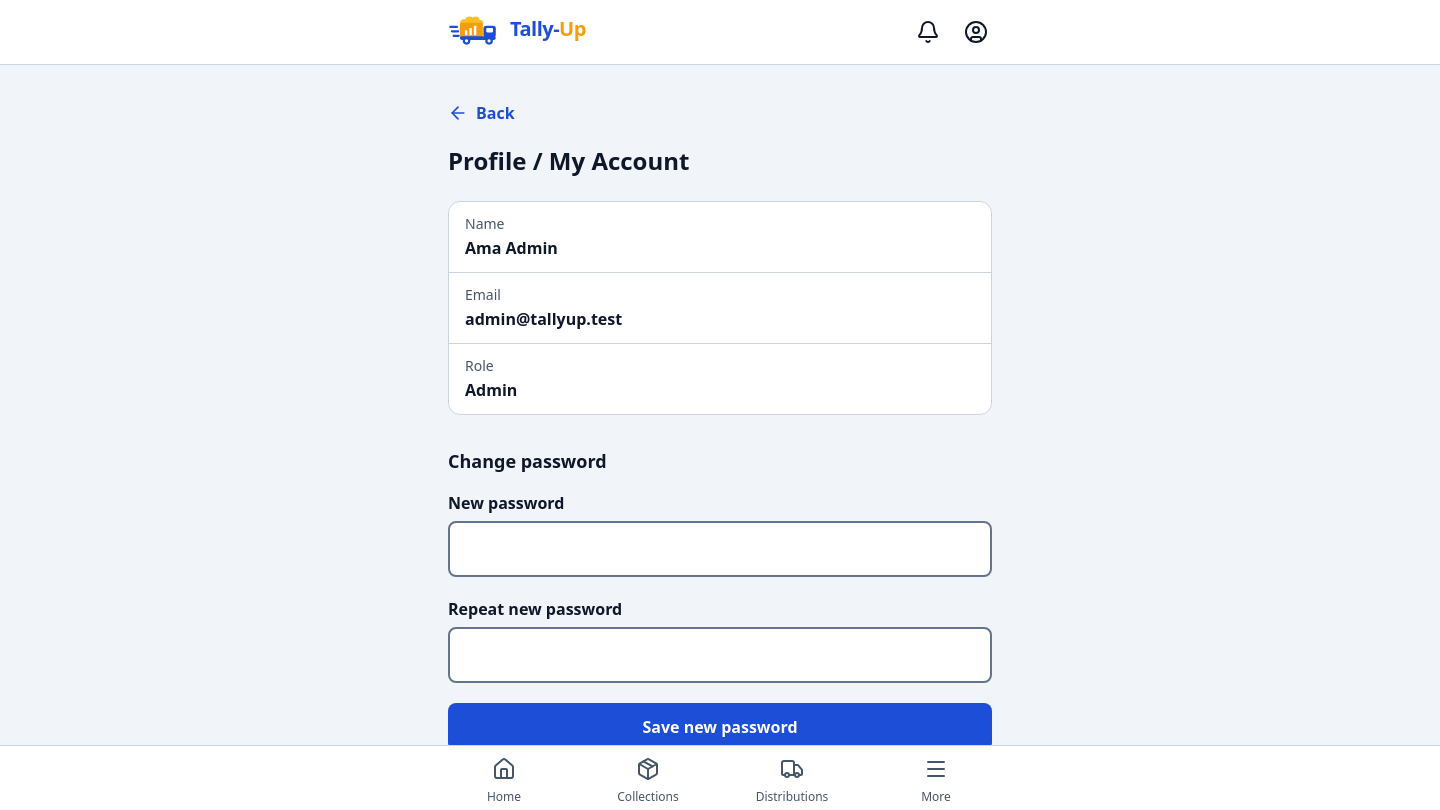
Profile / My Account › changes the password and confirms it
Type "fresh-pass-9" into the password field labelled "New password".
click(720, 549); type("fresh-pass-9")  # box [448, 521, 992, 577]
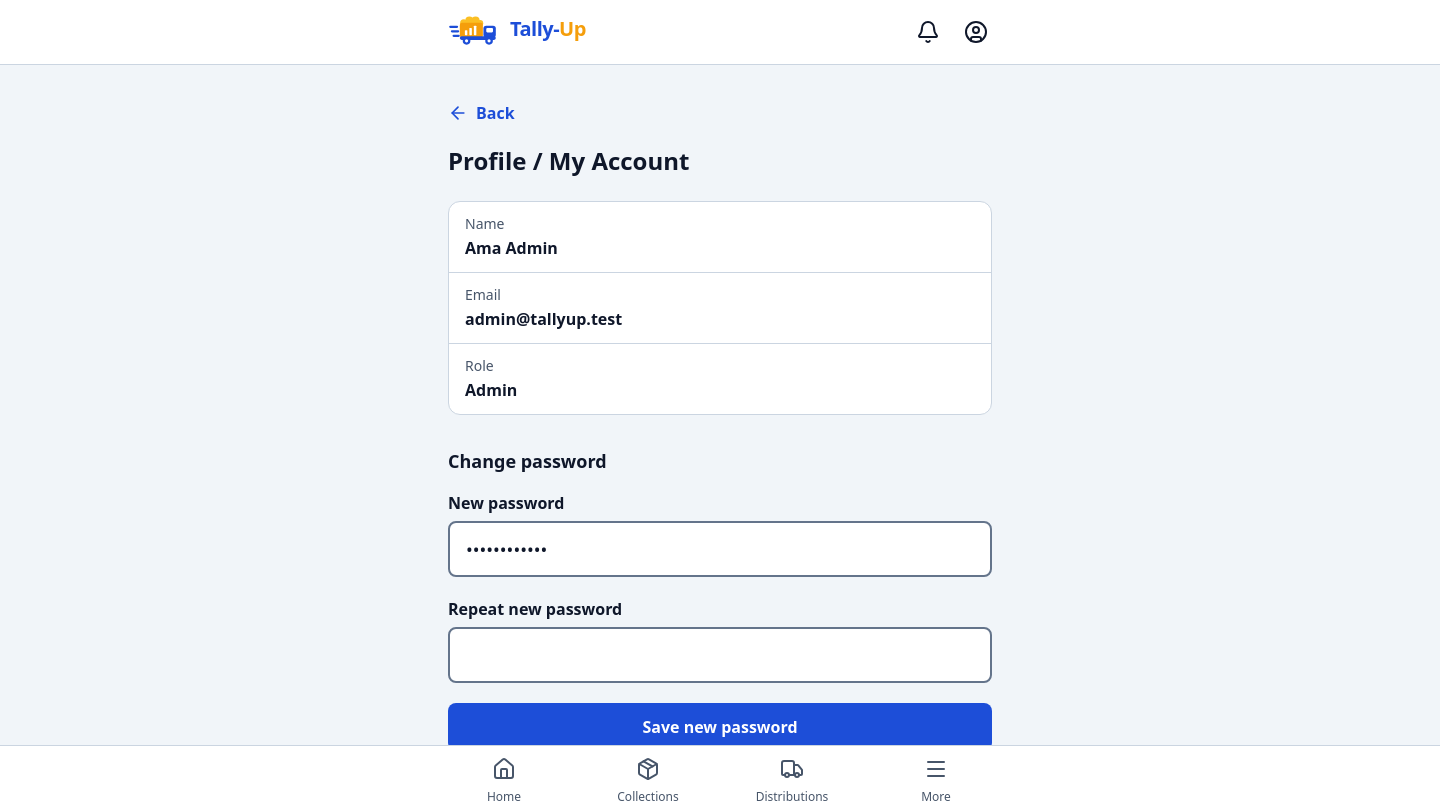
Type "fresh-pass-9" into the password field labelled "Repeat new password".
click(720, 655); type("fresh-pass-9")  # box [448, 627, 992, 683]
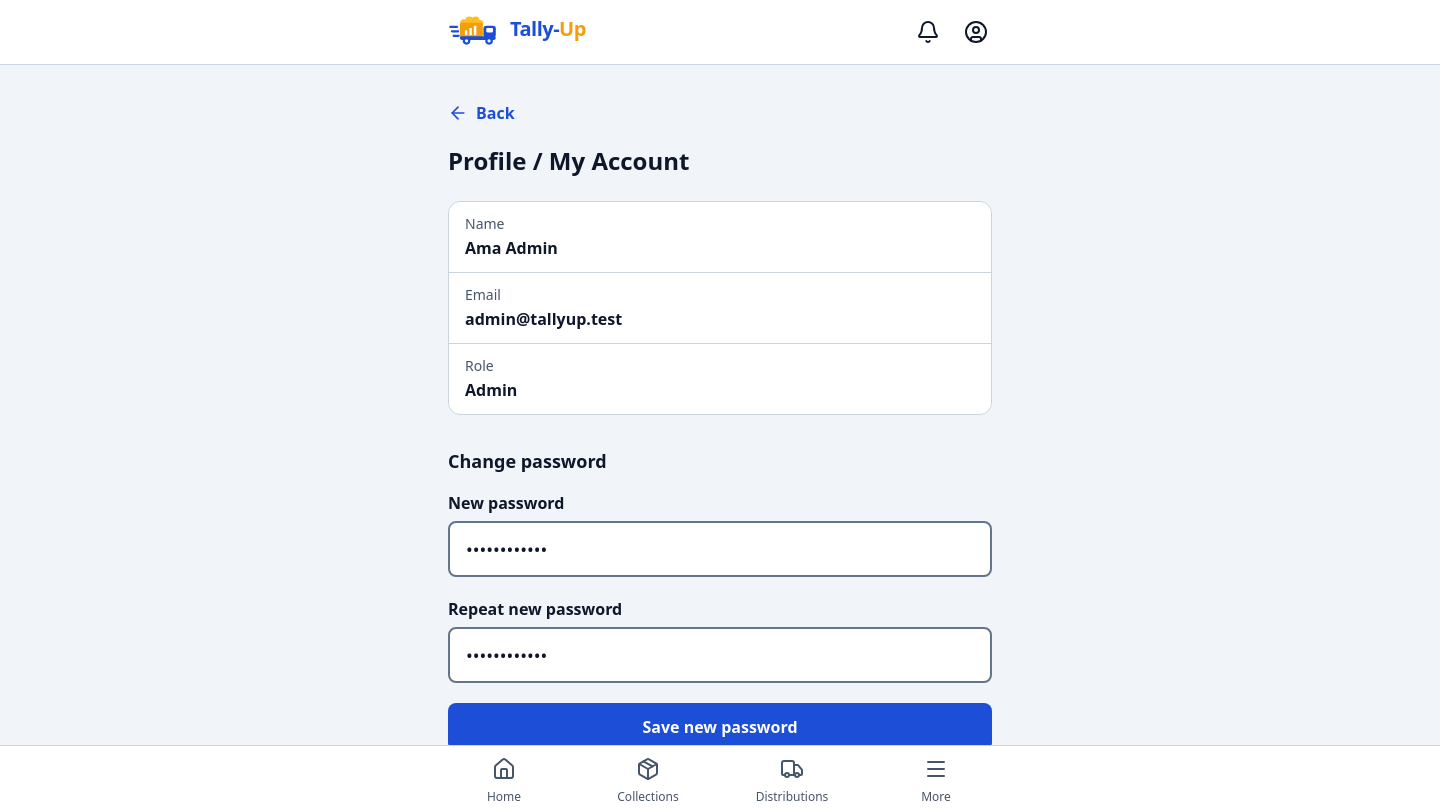
Click the button "Save new password".
click(720, 727)  # box [448, 703, 992, 751]
(page scrolled)
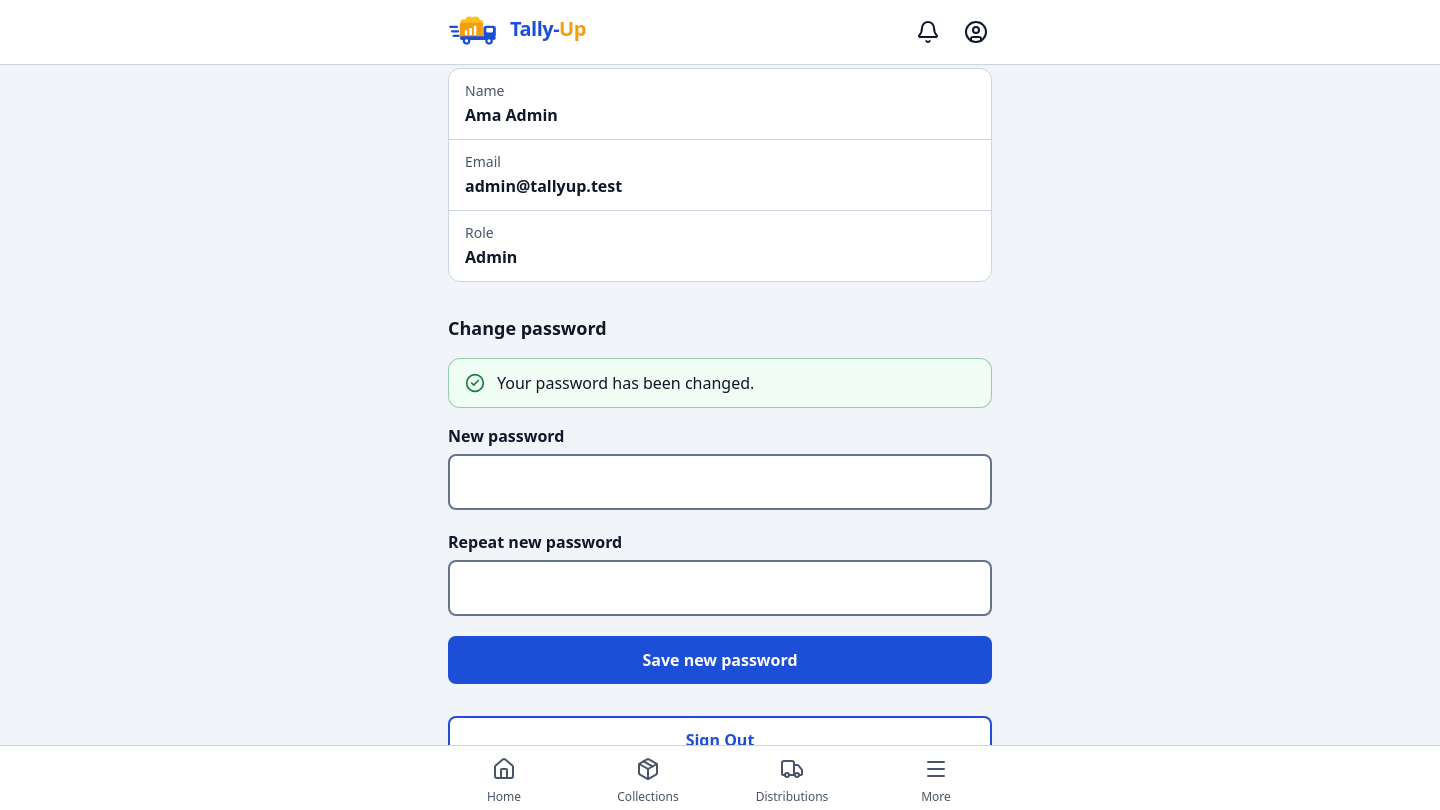
Expected: the element showing "Your password has been changed." is shown, [448, 358, 992, 408]
Expected: the password field labelled "New password" is empty, [448, 454, 992, 510]
